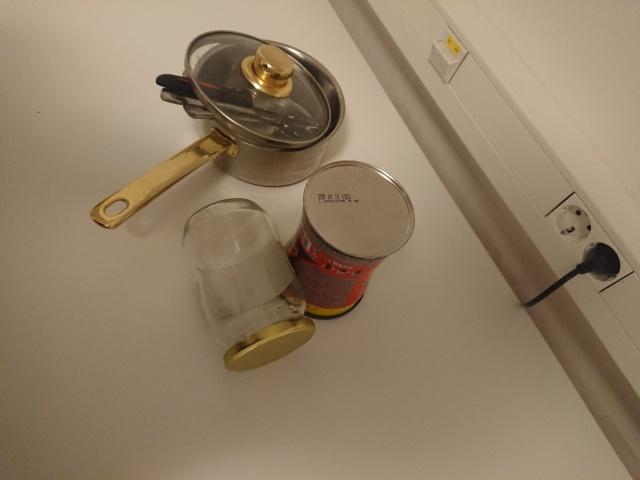Nescafe Classic 225g: (263, 158, 419, 324)
